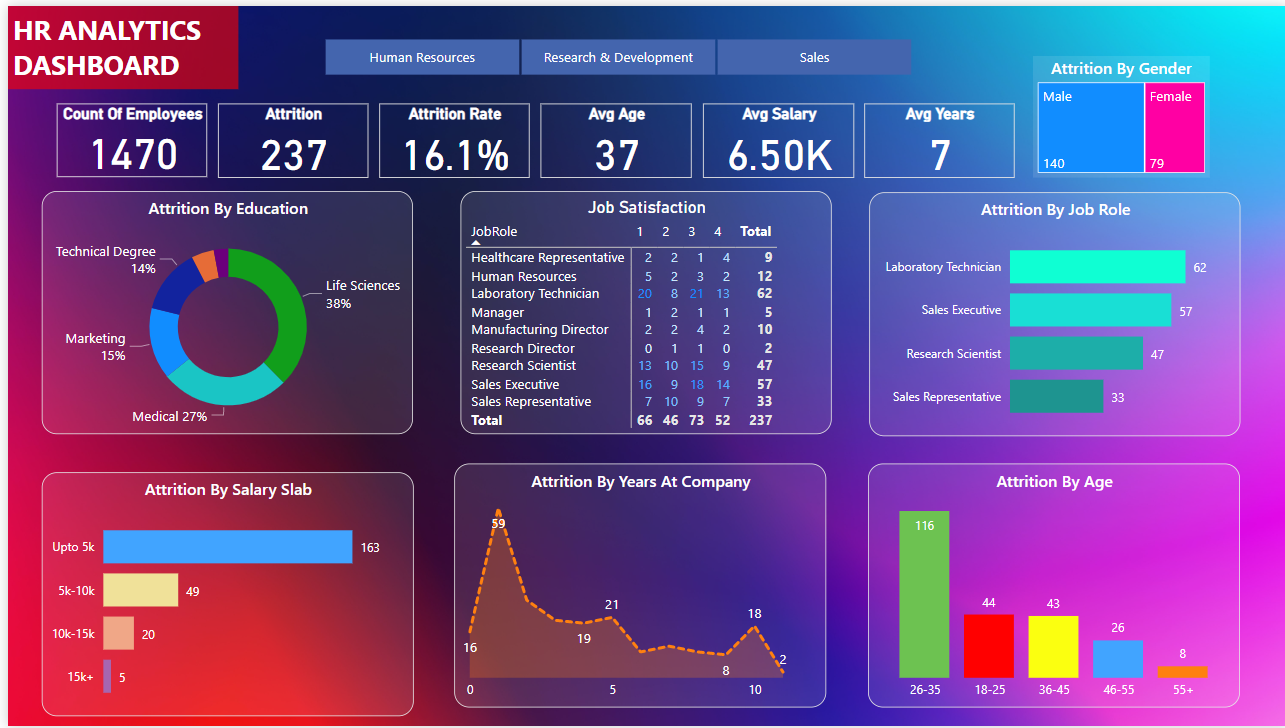

Layout of this report page (visuals, bound fields, positions):
{"tool":"powerbi","page":{"name":"Page 1","canvas":[1280,720],"ordinal":0},"visuals":[{"type":"card","title":"Count Of Employees","fields":{"Values":["CountNonNull(HR_Analytics.EmpID)"]},"box":[48.9,97.6,150.7,73.5],"z":0},{"type":"card","title":"Attrition","fields":{"Values":["Sum(HR_Analytics.AttritionCount)"]},"box":[210.6,97.1,150,74.3],"z":1000},{"type":"card","title":"Attrition Rate","fields":{"Values":["HR_Analytics.AttritionRate"]},"box":[371,97.1,150,74.3],"z":2000},{"type":"card","title":"Avg Age","fields":{"Values":["Avg(HR_Analytics.Age)"]},"box":[532.9,97.1,151.5,74.3],"z":3000},{"type":"card","title":"Avg Years","fields":{"Values":["Avg(HR_Analytics.YearsAtCompany)"]},"box":[856.7,97.1,150,74.3],"z":4000},{"type":"card","title":"Avg Salary","fields":{"Values":["Avg(HR_Analytics.MonthlyIncome)"]},"box":[694.8,97.1,151.5,74.3],"z":5000},{"type":"donutChart","title":"Attrition By Education","fields":{"Category":["HR_Analytics.EducationField"],"Y":["Sum(HR_Analytics.AttritionCount)"]},"box":[34.1,185.6,371.3,243.6],"z":6000},{"type":"columnChart","title":"Attrition By Age","fields":{"Category":["HR_Analytics.AgeGroup"],"Y":["Sum(HR_Analytics.AttritionCount)"]},"box":[860.1,457.4,371.6,243.6],"z":7000},{"type":"pivotTable","title":"Job Satisfaction","fields":{"Rows":["HR_Analytics.JobRole"],"Columns":["HR_Analytics.JobSatisfaction"],"Values":["Sum(HR_Analytics.AttritionCount)"]},"box":[453,185.6,371.3,243.6],"z":8000},{"type":"barChart","title":"Attrition By Salary Slab","fields":{"Category":["HR_Analytics.SalarySlab"],"Y":["Sum(HR_Analytics.AttritionCount)"]},"box":[33.6,466.1,371.6,243.6],"z":9000},{"type":"barChart","title":"Attrition By Job Role","fields":{"Y":["Sum(HR_Analytics.AttritionCount)"],"Category":["HR_Analytics.JobRole"]},"box":[861.2,186.2,371.2,243.8],"z":10000},{"type":"areaChart","title":"Attrition By Years At Company","fields":{"Category":["HR_Analytics.YearsAtCompany"],"Y":["Sum(HR_Analytics.AttritionCount)"]},"box":[446.2,457.4,371.6,243.6],"z":11000},{"type":"treemap","title":"Attrition By Gender","fields":{"Group":["HR_Analytics.Gender"],"Values":["Sum(HR_Analytics.AttritionCount)"]},"box":[1024.8,50.5,176.7,121.8],"z":12000},{"type":"slicer","fields":{"Values":["HR_Analytics.Department"]},"box":[290.9,26.1,636.4,49.7],"z":13000},{"type":"textbox","box":[0,0,230.2,83.2],"z":14000}]}

Visuals, with their boxes in screenshot pixels (x1, y1, x2, y2), scaled from the page's 1280x720 canvas onto the 1285x728 screenshot:
"Count Of Employees" card: 49:99:200:173
"Attrition" card: 211:98:362:173
"Attrition Rate" card: 372:98:523:173
"Avg Age" card: 535:98:687:173
"Avg Years" card: 860:98:1011:173
"Avg Salary" card: 698:98:850:173
"Attrition By Education" donutChart: 34:188:407:434
"Attrition By Age" columnChart: 863:462:1237:709
"Job Satisfaction" pivotTable: 455:188:828:434
"Attrition By Salary Slab" barChart: 34:471:407:718
"Attrition By Job Role" barChart: 865:188:1237:435
"Attrition By Years At Company" areaChart: 448:462:821:709
"Attrition By Gender" treemap: 1029:51:1206:174
slicer - HR_Analytics.Department: 292:26:931:77
textbox: 0:0:231:84
